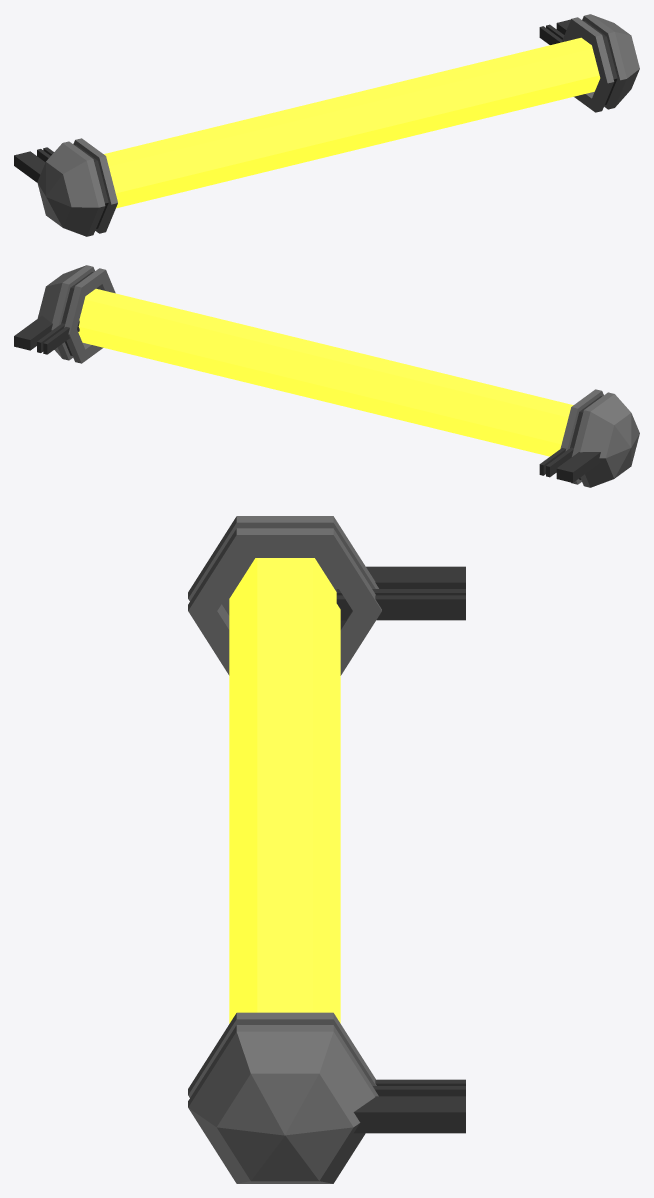
Rendered from light_1.fbx.
3 renders of one model, top to bottom at view 1: azimuth 30°, elevation 25°; view 2: azimuth 150°, elevation 25°; view 3: azimuth 270°, elevation 25°, orthographic. The views are drawn at different scales.
Parts seen in each view (by area): view 1: Cylinder; view 2: Cylinder; view 3: Cylinder.
Boxes of the visible parts, box(x1,y1,x2,y2) form: Cylinder: box(14, 14, 639, 236); Cylinder: box(14, 265, 639, 487); Cylinder: box(188, 516, 465, 1183).
Size of the model in its own units: 1393 by 173 by 286.
